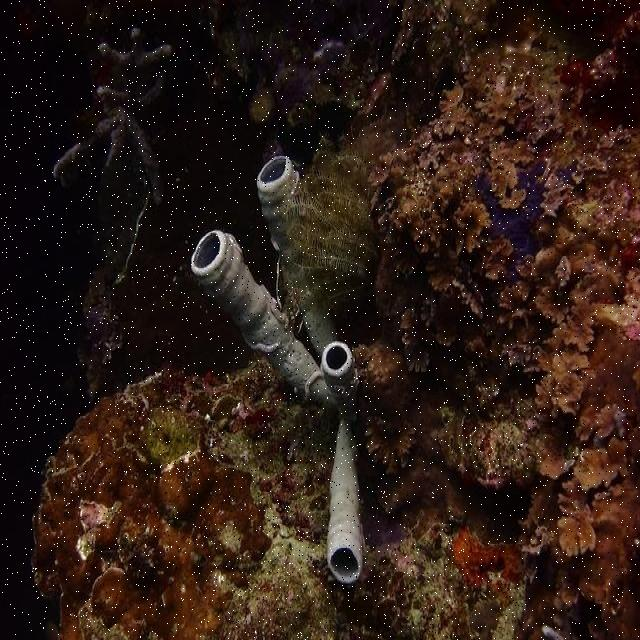aquatic plants: (192, 158, 359, 577), (290, 108, 405, 276), (56, 34, 169, 197)
reefs: (32, 4, 639, 639)
